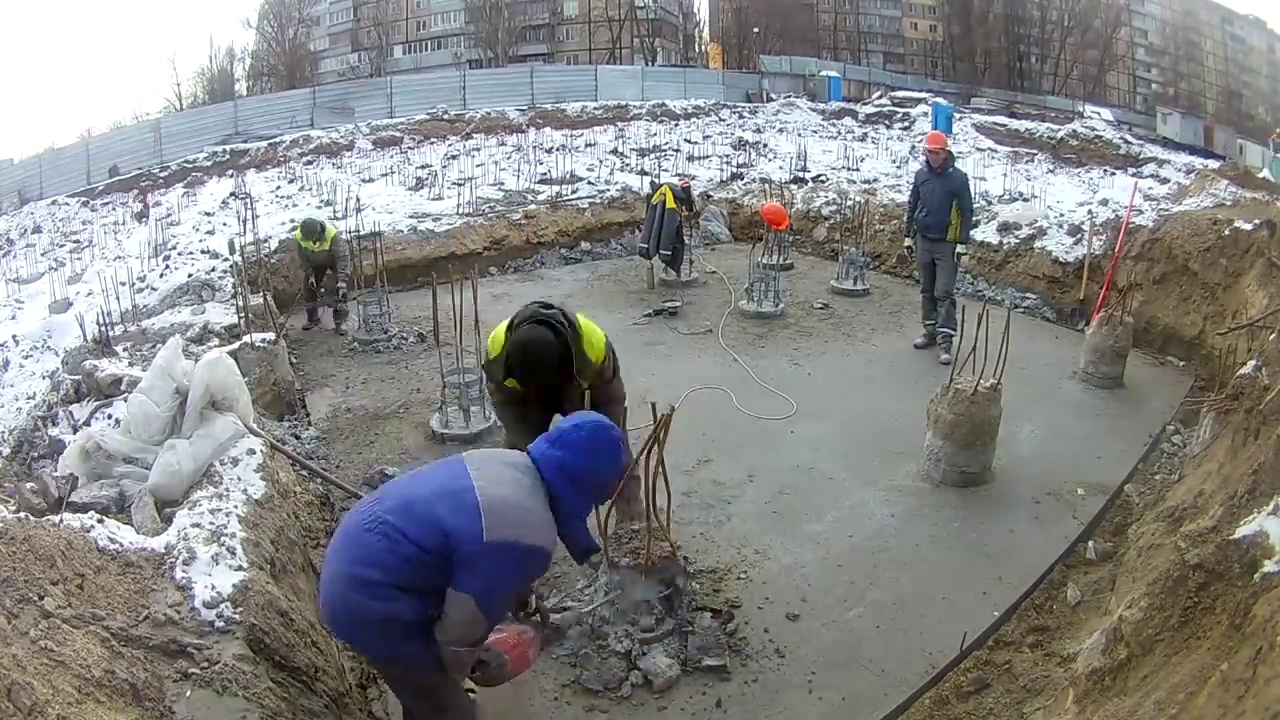helmet: (925, 131, 949, 150)
helmet-off: (523, 406, 629, 545), (498, 301, 577, 400), (293, 214, 352, 337), (299, 219, 324, 246)
helmet-on: (920, 131, 955, 178), (760, 202, 790, 234)
person: (318, 405, 642, 720), (475, 301, 648, 545), (907, 130, 974, 366)
